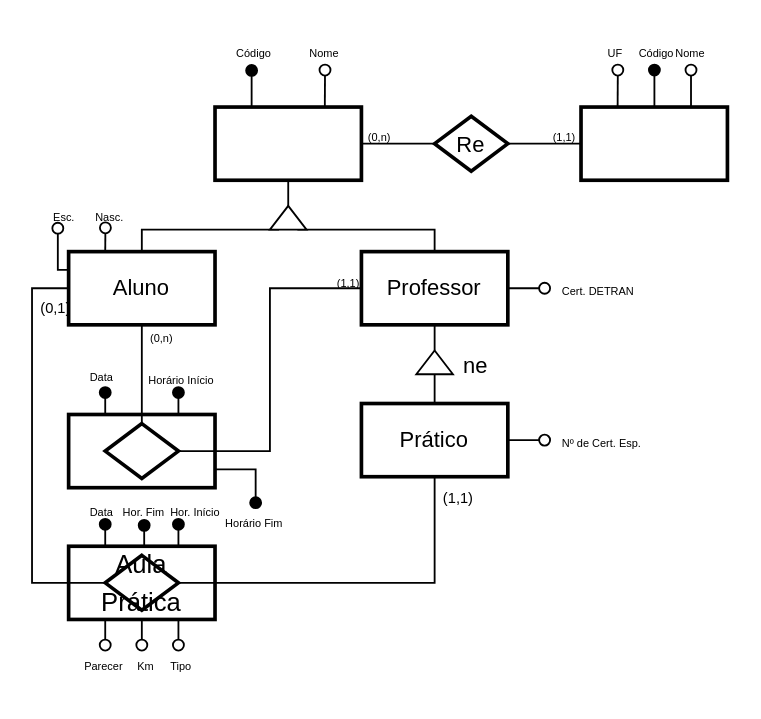
Image size: 761x719. Some labels were removed from this diagram. Here are the shapes that lost their labels. From the top down, the centre of each, then its label:
At pixel 287 142: "Pessoa".
At pixel 653 142: "Cidade".
At pixel 140 450: "Aula Teórica".
